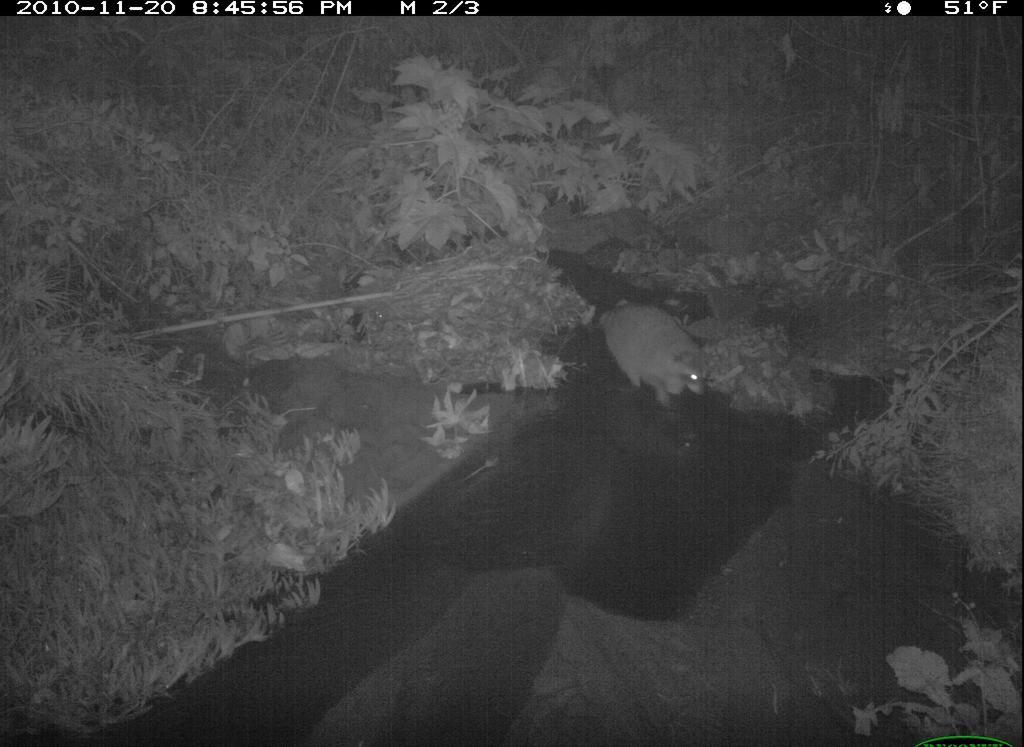raccoon: (593, 285, 725, 410)
